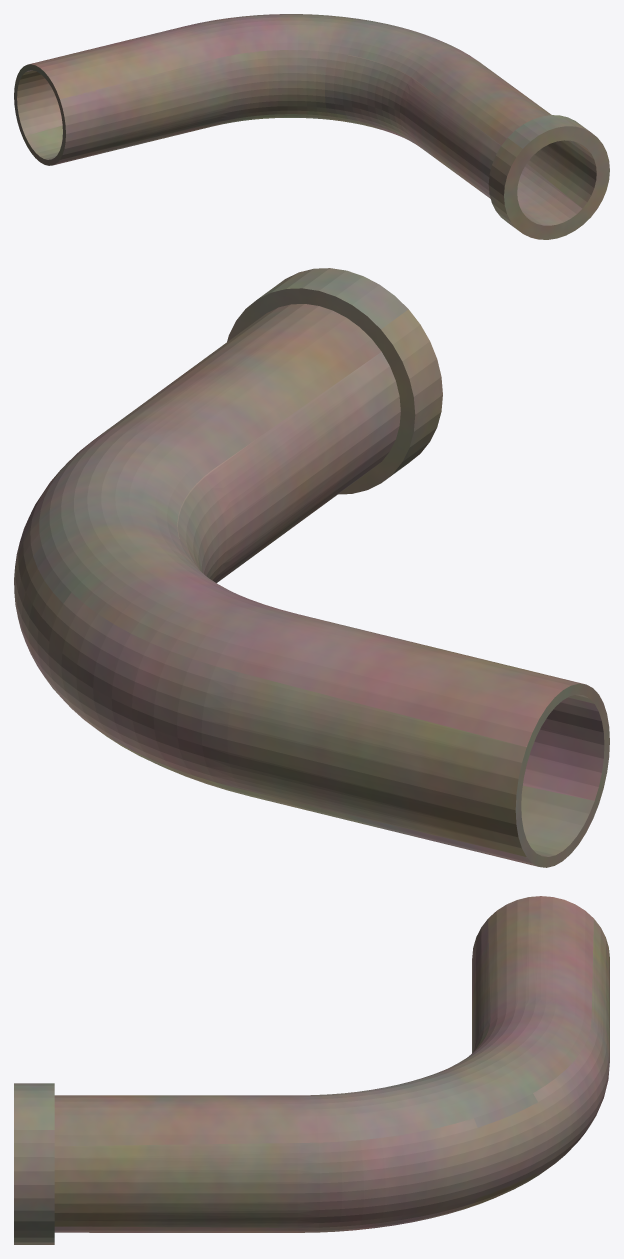
The model's file is Pipe curve 3 no end.glb.
3 views of the same model, one above another, from view 1: azimuth 30°, elevation 25°; view 2: azimuth 150°, elevation 25°; view 3: azimuth 270°, elevation 25° (orthographic). The views are drawn at different scales.
Visible parts, largest first — view 1: Pipe thin short turn NE; view 2: Pipe thin short turn NE; view 3: Pipe thin short turn NE.
Boxes of the visible parts, x1=… form: Pipe thin short turn NE: x1=14, y1=14, x2=609, y2=239; Pipe thin short turn NE: x1=14, y1=268, x2=609, y2=867; Pipe thin short turn NE: x1=14, y1=896, x2=609, y2=1244.
Size of the model in its own units: 9.96 by 2.85 by 10.46.
1 material, 1 textured.
